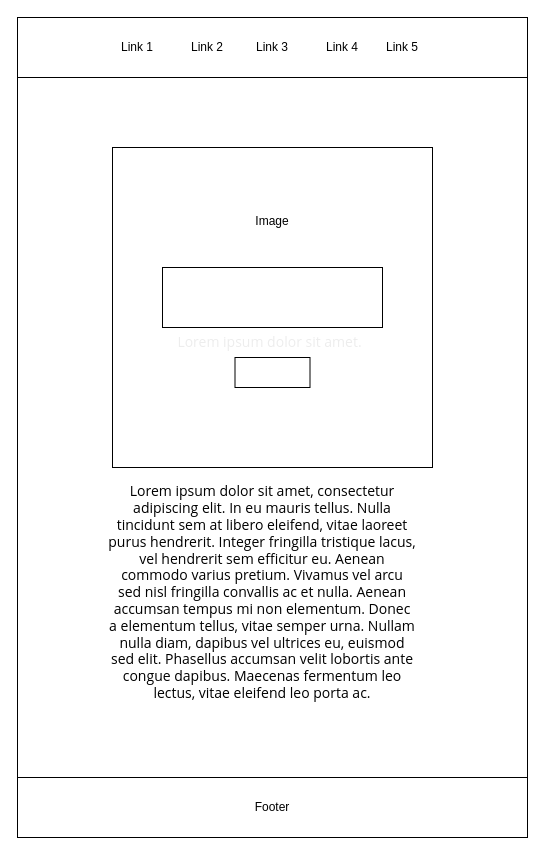
The diagram is 545 pixels wide and 855 high, and some of its shapes have lost their labels. The box of each missing label's shape, as (x1, y1, x2, y2) in pixels:
Button: (234, 356, 310, 388)
H1: (162, 266, 382, 328)
